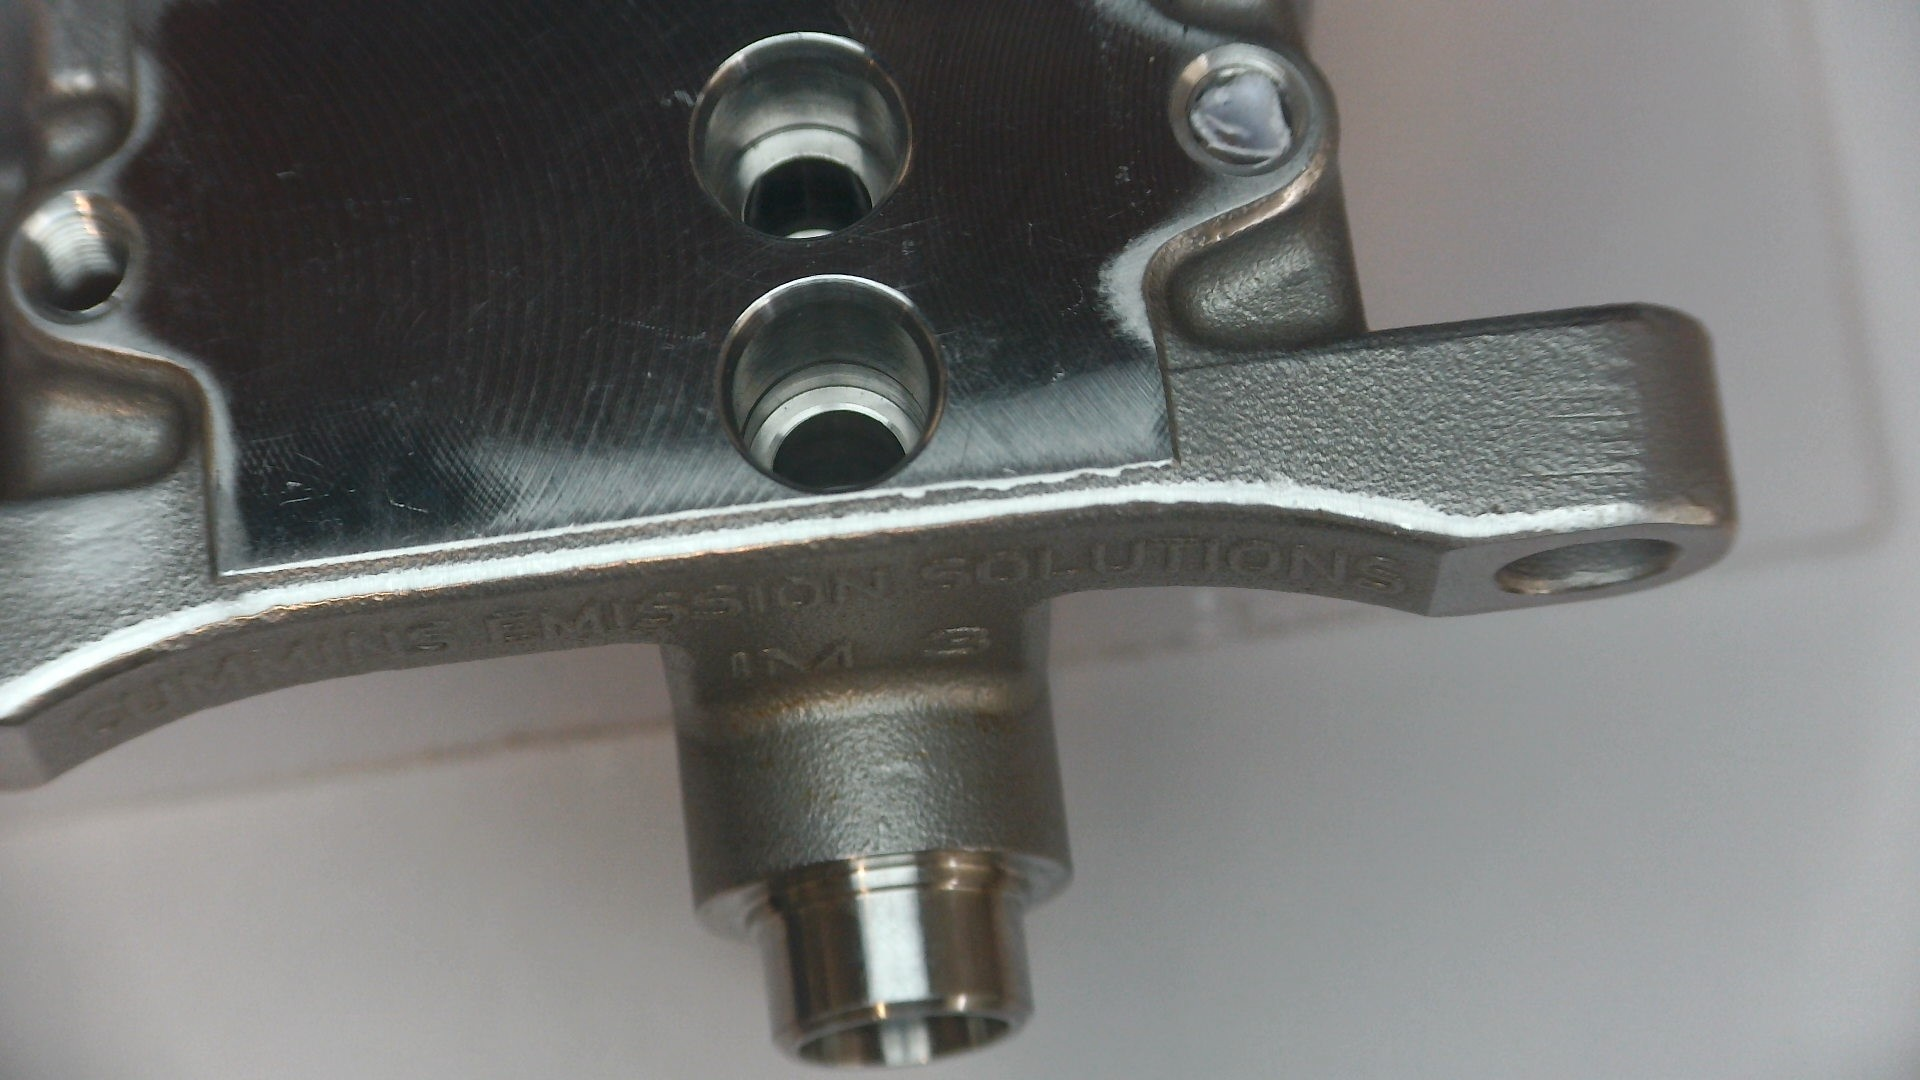thread_absence: (709, 269, 949, 502), (684, 26, 920, 241), (1168, 40, 1309, 187)
thread_presence: (15, 204, 127, 314)
